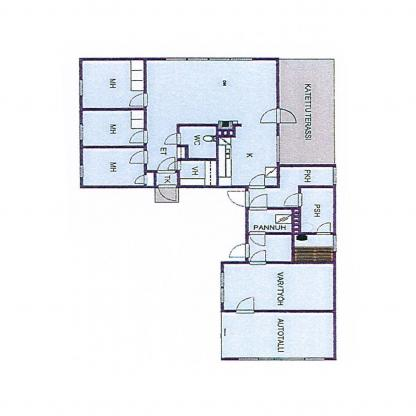window: (254, 105, 299, 126), (164, 56, 253, 63), (232, 294, 261, 315), (225, 191, 252, 208), (248, 250, 269, 271), (239, 357, 325, 362), (279, 191, 304, 208), (130, 151, 154, 166), (246, 173, 267, 190), (229, 245, 252, 260), (249, 232, 269, 248), (127, 92, 148, 107), (156, 184, 177, 199), (249, 196, 268, 212), (161, 155, 178, 172), (126, 131, 150, 143), (164, 134, 182, 147), (219, 274, 226, 304), (316, 223, 328, 236), (78, 124, 86, 141), (77, 80, 83, 97), (133, 178, 147, 184), (80, 166, 83, 182)
zone: (148, 60, 276, 186), (280, 59, 335, 167), (223, 312, 334, 358), (222, 264, 331, 310), (248, 166, 333, 208), (83, 61, 144, 108), (81, 149, 142, 185), (81, 112, 144, 146), (298, 187, 334, 231), (293, 232, 334, 260), (248, 235, 289, 262), (249, 207, 292, 232), (181, 127, 214, 157), (181, 162, 215, 184), (148, 172, 174, 184)
